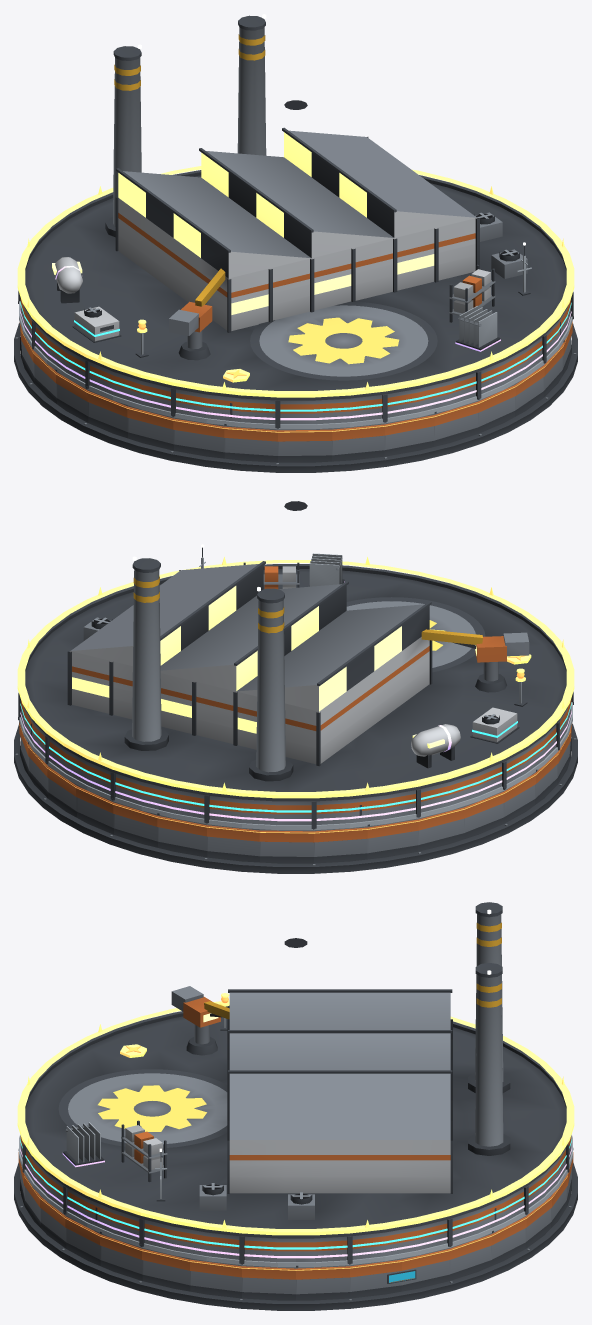
File: workshop_l.glb
3 renders of one model, top to bottom at view 1: azimuth 30°, elevation 25°; view 2: azimuth 150°, elevation 25°; view 3: azimuth 270°, elevation 25°, orthographic.
Visible parts, largest first — view 1: Roof, Base, L4, Wall_21, Wall_20, Wall_22, Wall_19, Wall_23, Wall_18, Wall_24, Wall_17, Wall_25 (+16 smaller); view 2: Roof, Base, L4, Wall_10, Wall_11, Wall_09, Wall_12, Wall_08, Wall_13, Wall_07, Wall_14, Wall_06 (+20 smaller); view 3: Roof, Base, Wall_00, Wall_31, Wall_30, Wall_29, Wall_01, Wall_02, Wall_28, Wall_03, L4, Upper_00 (+17 smaller).
Boxes of the visible parts, left/top/right/bottom form: Roof: left=24, top=14, right=567, bottom=400; Base: left=14, top=323, right=577, bottom=472; L4: left=52, top=257, right=500, bottom=351; Wall_21: left=278, top=428, right=332, bottom=462; Wall_20: left=224, top=424, right=277, bottom=462; Wall_22: left=332, top=423, right=384, bottom=461; Wall_19: left=173, top=417, right=224, bottom=458; Wall_23: left=384, top=414, right=434, bottom=456; Wall_18: left=127, top=405, right=173, bottom=450; Wall_24: left=434, top=401, right=478, bottom=446; Wall_17: left=87, top=390, right=127, bottom=438; Wall_25: left=478, top=384, right=515, bottom=433; Roof: left=24, top=501, right=567, bottom=801; Base: left=14, top=724, right=577, bottom=873; L4: left=309, top=553, right=460, bottom=768; Wall_10: left=259, top=829, right=313, bottom=863; Wall_11: left=314, top=826, right=367, bottom=863; Wall_09: left=207, top=824, right=259, bottom=862; Wall_12: left=367, top=818, right=418, bottom=859; Wall_08: left=157, top=813, right=207, bottom=857; Wall_13: left=418, top=806, right=464, bottom=851; Wall_07: left=113, top=801, right=157, bottom=847; Wall_14: left=464, top=791, right=504, bottom=839; Wall_06: left=76, top=785, right=113, bottom=834; Roof: left=24, top=902, right=567, bottom=1238; Base: left=14, top=1163, right=577, bottom=1310; Wall_00: left=296, top=1265, right=349, bottom=1300; Wall_31: left=242, top=1265, right=295, bottom=1300; Wall_30: left=190, top=1258, right=241, bottom=1298; Wall_29: left=142, top=1248, right=190, bottom=1291; Wall_01: left=350, top=1258, right=401, bottom=1298; Wall_02: left=401, top=1248, right=449, bottom=1291; Wall_28: left=100, top=1231, right=142, bottom=1280; Wall_03: left=449, top=1233, right=491, bottom=1280; L4: left=62, top=1122, right=104, bottom=1167; Upper_00: left=296, top=1236, right=350, bottom=1263.
Bounding box in the file's own units: 18.96 × 9.39 × 18.96.
